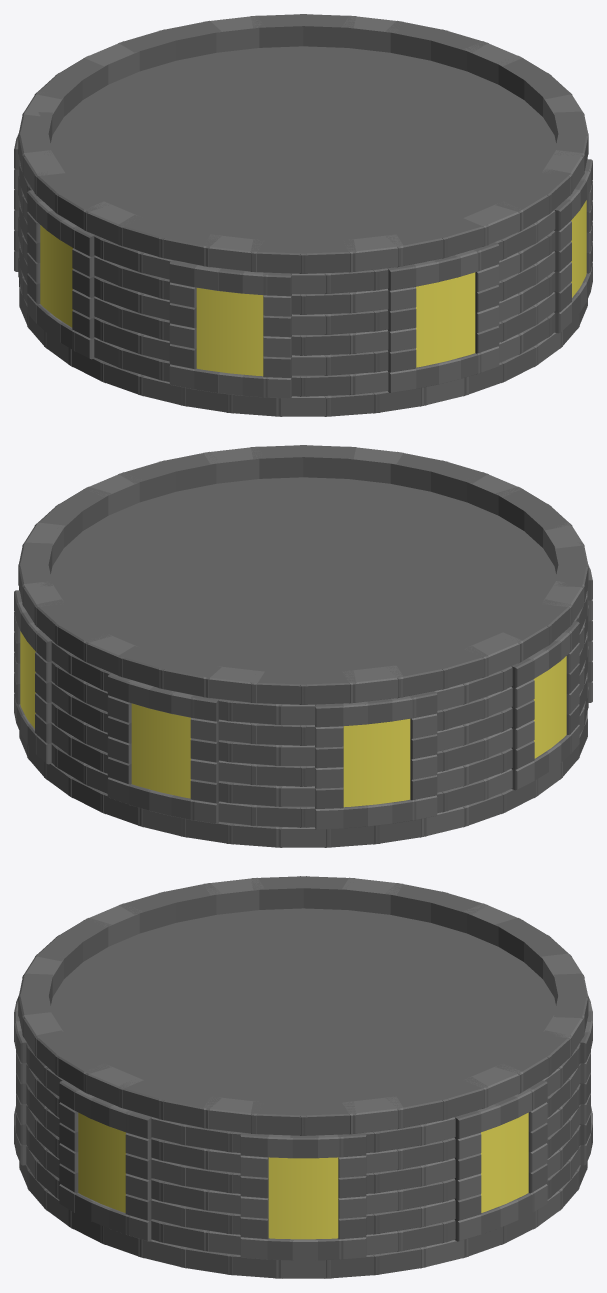
Rendered from GuardLevel.fbx.
The picture shows the model from 3 angles, top to bottom: view 1: azimuth 30°, elevation 25°; view 2: azimuth 150°, elevation 25°; view 3: azimuth 270°, elevation 25°; orthographic projection.
Parts seen in each view (by area): view 1: Cylinder.001, Cylinder.009, Cylinder.005, Cylinder.004, Cube.277, Cube.279, Cube.278, Cube.274, Cube.259, Cube.275, Cube.256, Cube.257 (+101 smaller); view 2: Cylinder.001, Cylinder.008, Cylinder.003, Cylinder.004, Cube.265, Cube.266, Cube.262, Cube.267, Cube.263, Cube.283, Cube.268, Cube.284 (+102 smaller); view 3: Cylinder.001, Cylinder.002, Cylinder.006, Cylinder.007, Cube.253, Cube.254, Cube.286, Cube.255, Cube.271, Cube.269, Cube.287, Cube.258 (+93 smaller).
Part boxes in pixels (bbox=[...]): Cylinder.001: bbox=[50, 46, 556, 241]; Cylinder.009: bbox=[196, 288, 263, 376]; Cylinder.005: bbox=[416, 272, 475, 367]; Cylinder.004: bbox=[40, 225, 73, 327]; Cube.277: bbox=[298, 239, 356, 273]; Cube.279: bbox=[251, 239, 308, 273]; Cube.278: bbox=[344, 234, 403, 272]; Cube.274: bbox=[158, 226, 221, 267]; Cube.259: bbox=[251, 14, 309, 47]; Cube.275: bbox=[203, 234, 263, 272]; Cube.256: bbox=[385, 20, 447, 60]; Cube.257: bbox=[342, 15, 403, 52]; Cylinder.001: bbox=[50, 477, 556, 672]; Cylinder.008: bbox=[343, 719, 410, 807]; Cylinder.003: bbox=[131, 703, 190, 798]; Cylinder.004: bbox=[533, 656, 566, 758]; Cube.265: bbox=[297, 670, 356, 704]; Cube.266: bbox=[342, 665, 403, 703]; Cube.262: bbox=[158, 657, 221, 698]; Cube.267: bbox=[251, 671, 309, 704]; Cube.263: bbox=[203, 666, 264, 703]; Cube.283: bbox=[251, 445, 309, 478]; Cube.268: bbox=[426, 646, 488, 689]; Cube.284: bbox=[203, 446, 261, 483]; Cylinder.001: bbox=[51, 908, 555, 1103]; Cylinder.002: bbox=[268, 1157, 338, 1239]; Cylinder.006: bbox=[78, 1112, 125, 1212]; Cylinder.007: bbox=[481, 1112, 528, 1212]; Cube.253: bbox=[297, 1101, 356, 1135]; Cube.254: bbox=[342, 1096, 403, 1134]; Cube.286: bbox=[159, 1088, 221, 1129]; Cube.255: bbox=[251, 1101, 306, 1135]; Cube.271: bbox=[251, 876, 309, 909]; Cube.269: bbox=[342, 877, 402, 914]; Cube.287: bbox=[203, 1097, 259, 1134]; Cube.258: bbox=[386, 1088, 448, 1129].
Bounding box in the file's own units: 1027 × 320 × 1027.
